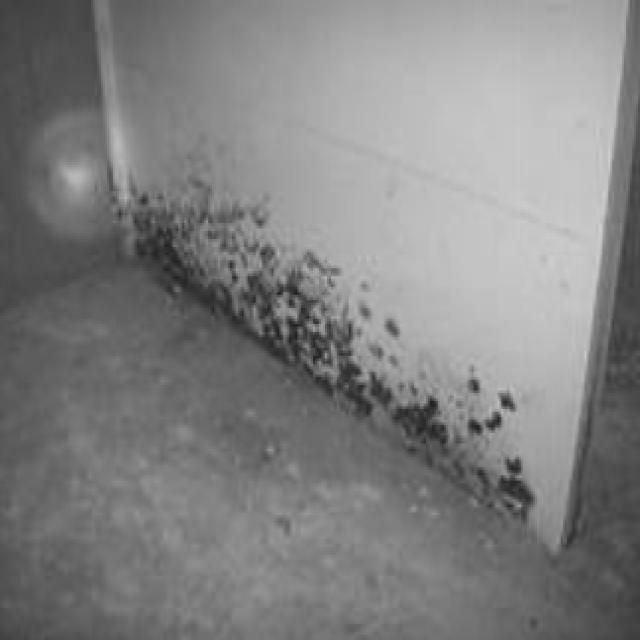stain marks: (263, 324, 522, 405), (104, 159, 274, 264), (158, 263, 372, 324), (401, 444, 541, 516), (349, 406, 541, 444)
